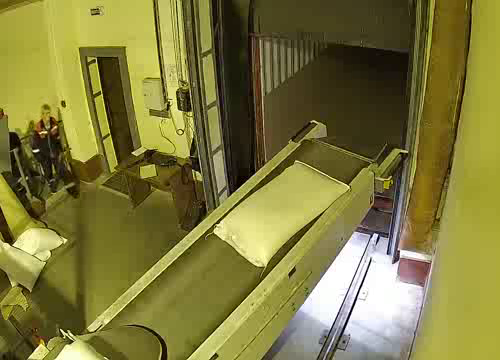bag: (205, 155, 359, 272), (43, 335, 123, 360)
